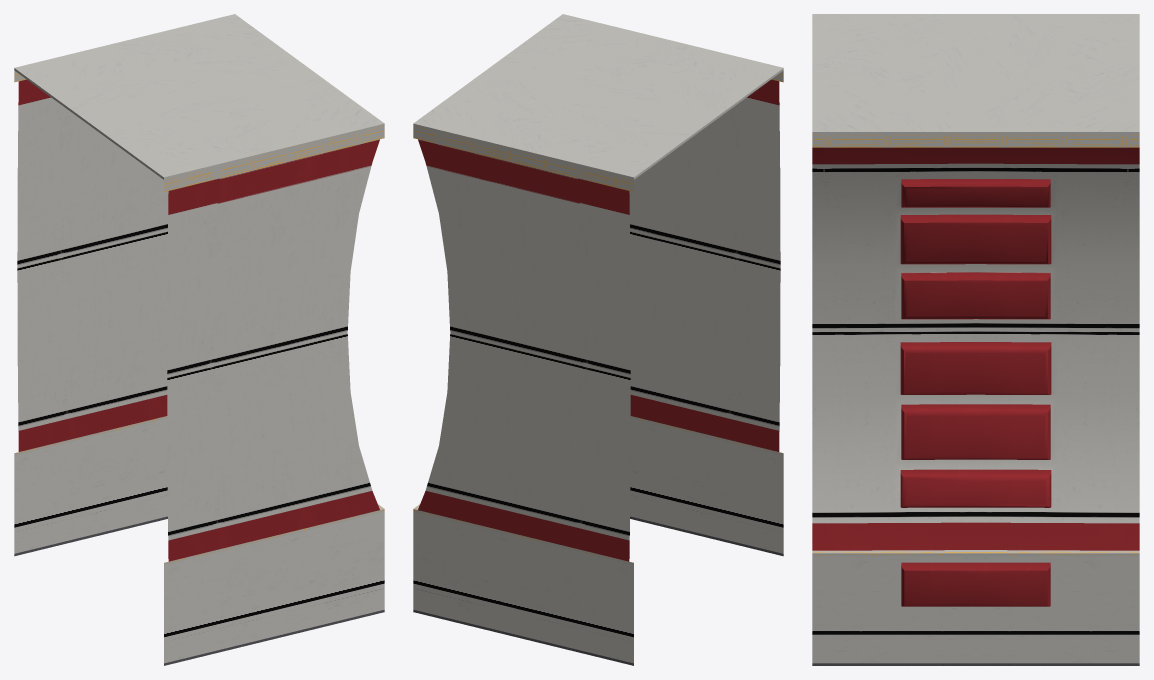
Rendered from G_Env_Arch_Wall_06_CushionPattern.fbx.
The picture shows the model from 3 angles, left to right: view 1: azimuth 30°, elevation 25°; view 2: azimuth 150°, elevation 25°; view 3: azimuth 270°, elevation 25°; orthographic projection. The views are drawn at different scales.
Parts seen in each view (by area): view 1: G_Env_Arch_Wall_06_CushionPattern; view 2: G_Env_Arch_Wall_06_CushionPattern; view 3: G_Env_Arch_Wall_06_CushionPattern.
Boxes of the visible parts, x1,y1,x2,y2 form: G_Env_Arch_Wall_06_CushionPattern: (14,14,384,665); G_Env_Arch_Wall_06_CushionPattern: (413,14,783,665); G_Env_Arch_Wall_06_CushionPattern: (812,14,1139,665).
Bounding box in the file's own units: 447 × 900 × 500.
